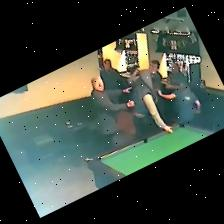person: (129, 62, 175, 132), (91, 77, 134, 138)
